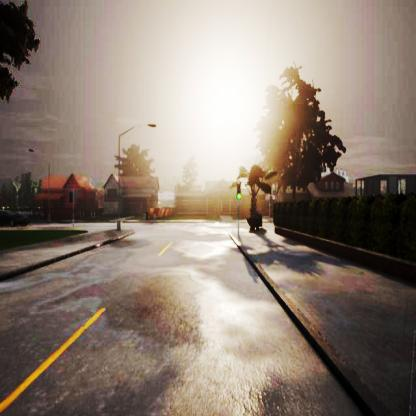vehicle: (1, 207, 30, 227)
